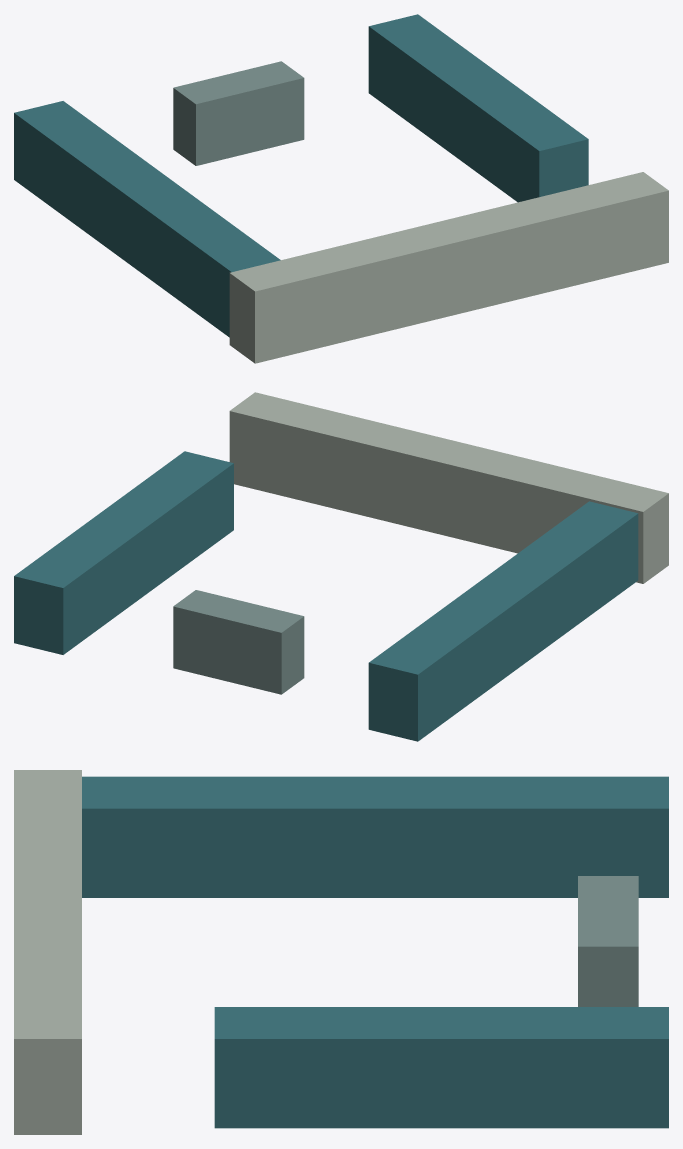
Rendered from 17_Lost_City_Arch_Ruin.glb.
3 views of the same model, one above another, from view 1: azimuth 30°, elevation 25°; view 2: azimuth 150°, elevation 25°; view 3: azimuth 270°, elevation 25° (orthographic). The views are drawn at different scales.
Parts seen in each view (by area): view 1: 17_Lost_City_Arch_Ruin_02, 17_Lost_City_Arch_Ruin_00, 17_Lost_City_Arch_Ruin_01, 17_Lost_City_Arch_Ruin_03; view 2: 17_Lost_City_Arch_Ruin_02, 17_Lost_City_Arch_Ruin_00, 17_Lost_City_Arch_Ruin_01, 17_Lost_City_Arch_Ruin_03; view 3: 17_Lost_City_Arch_Ruin_00, 17_Lost_City_Arch_Ruin_01, 17_Lost_City_Arch_Ruin_02, 17_Lost_City_Arch_Ruin_03.
Boxes of the visible parts, x1,y1,x2,y2 form: 17_Lost_City_Arch_Ruin_02: (229,172,668,363); 17_Lost_City_Arch_Ruin_00: (14,101,280,337); 17_Lost_City_Arch_Ruin_01: (368,14,588,202); 17_Lost_City_Arch_Ruin_03: (173,61,304,165); 17_Lost_City_Arch_Ruin_02: (229,392,668,583); 17_Lost_City_Arch_Ruin_00: (368,501,638,741); 17_Lost_City_Arch_Ruin_01: (14,451,233,654); 17_Lost_City_Arch_Ruin_03: (173,590,304,694); 17_Lost_City_Arch_Ruin_00: (82,776,668,897); 17_Lost_City_Arch_Ruin_01: (214,1007,668,1128); 17_Lost_City_Arch_Ruin_02: (14,770,81,1134); 17_Lost_City_Arch_Ruin_03: (578,876,638,1006).
Bounding box in the file's own units: 4.2 × 0.7 × 4.32.
